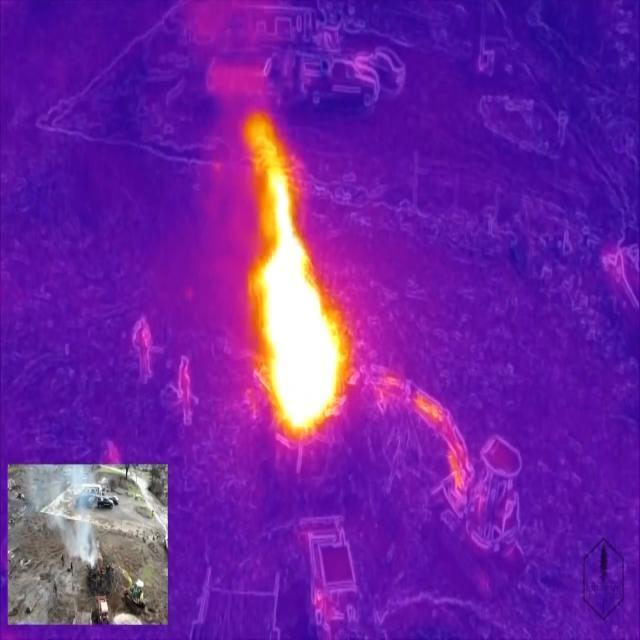fire: (253, 119, 347, 439)
